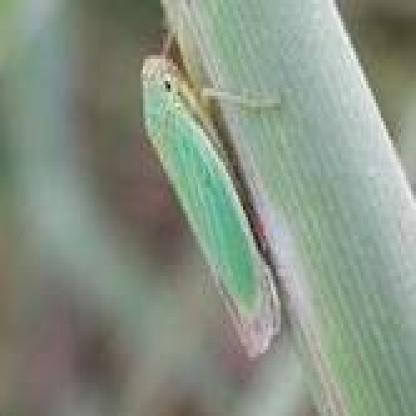Green-Leafhopper: (136, 23, 290, 357)
